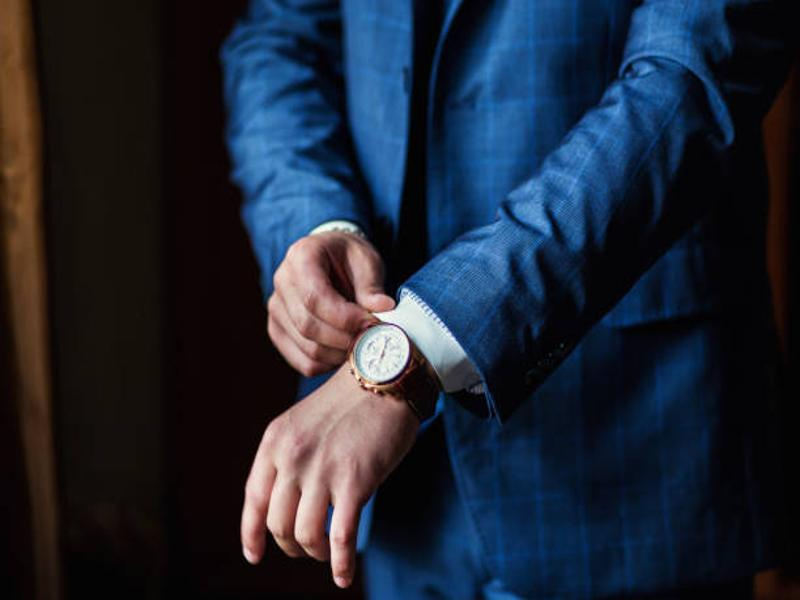watch: (345, 314, 447, 417)
